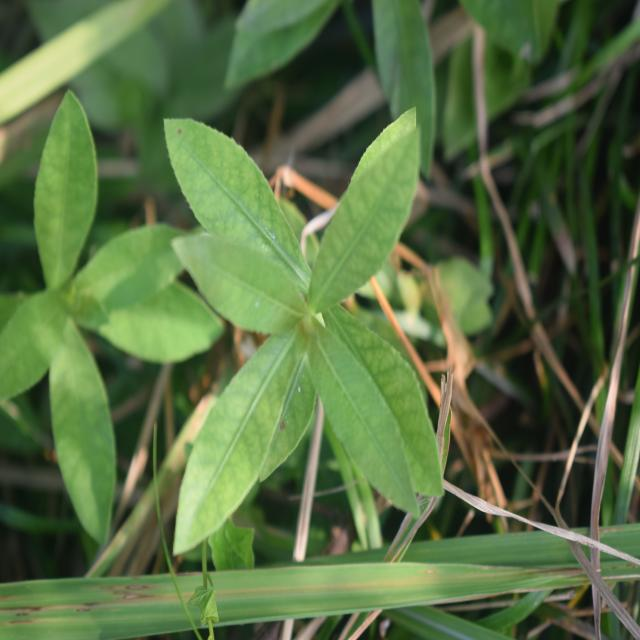Alligatorweed: (154, 116, 453, 518)
